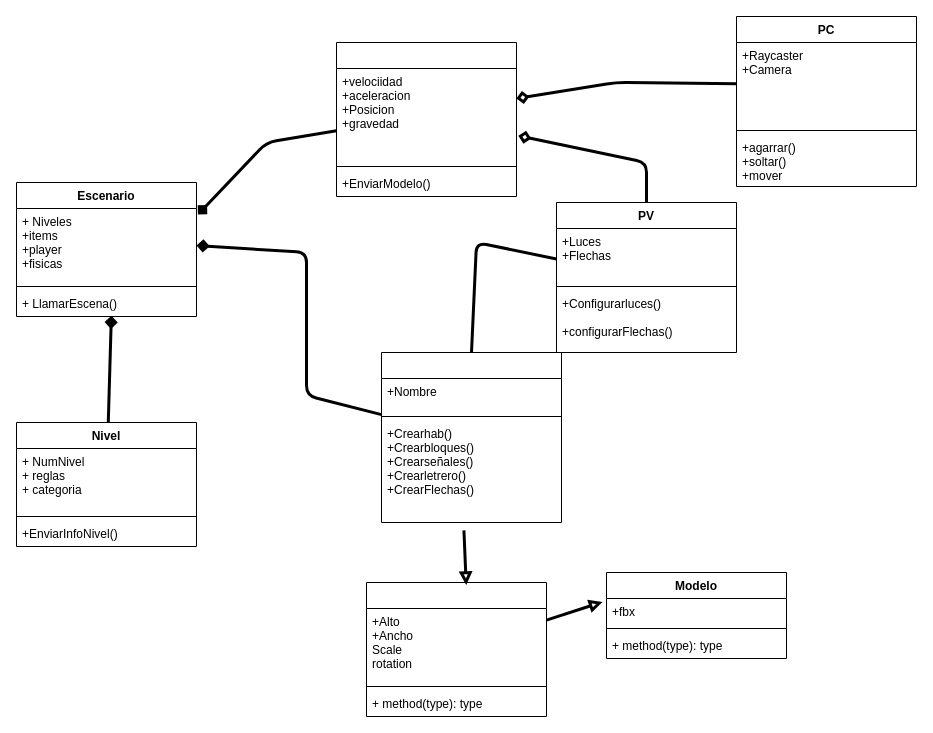
Some shapes in this 933 by 733 pixel diagram are drawn without their labels. The box of each missing label's shape, as (x1, y1, x2, y2) in pixels:
Geometria: (366, 582, 546, 716)
Item: (380, 352, 562, 522)
PM: (336, 42, 516, 196)
